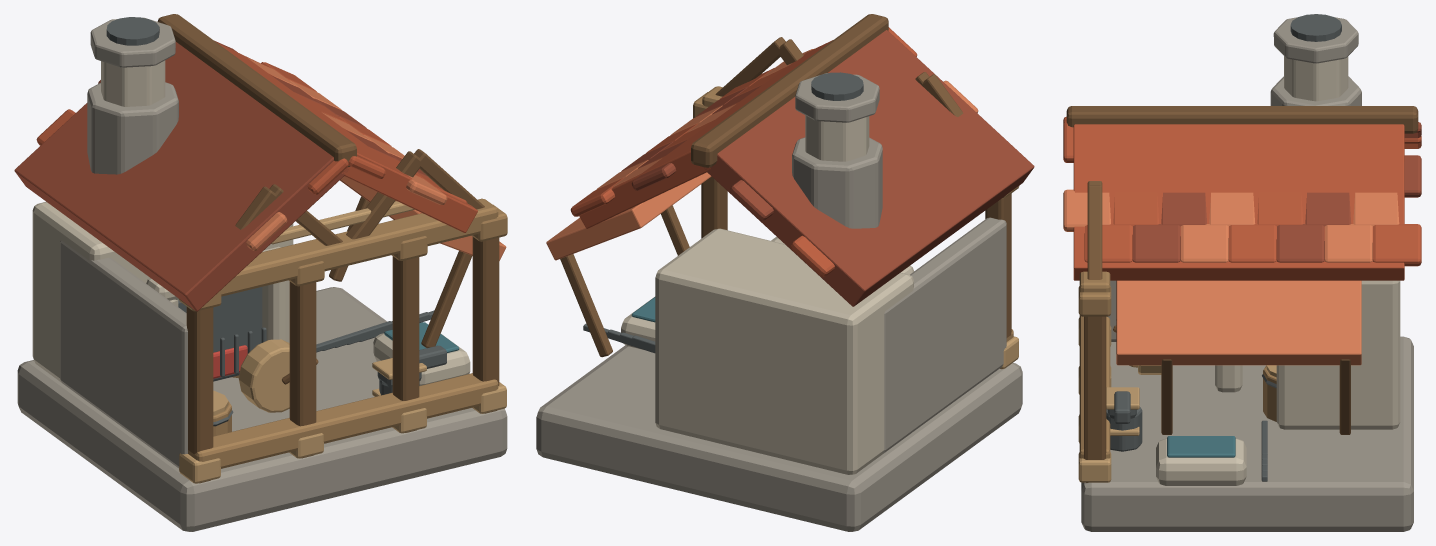
The model's file is workshop.glb.
The picture shows the model from 3 angles, left to right: view 1: azimuth 30°, elevation 25°; view 2: azimuth 150°, elevation 25°; view 3: azimuth 270°, elevation 25°; orthographic projection. The views are drawn at different scales.
Parts seen in each view (by area): view 1: BlacksmithForgeHall_Geometry; view 2: BlacksmithForgeHall_Geometry; view 3: BlacksmithForgeHall_Geometry.
Boxes of the visible parts, bbox=[...] form: BlacksmithForgeHall_Geometry: bbox=[14, 14, 507, 531]; BlacksmithForgeHall_Geometry: bbox=[536, 14, 1034, 531]; BlacksmithForgeHall_Geometry: bbox=[1063, 14, 1421, 531].
Bounding box in the file's own units: 2.31 × 2.51 × 2.09.
